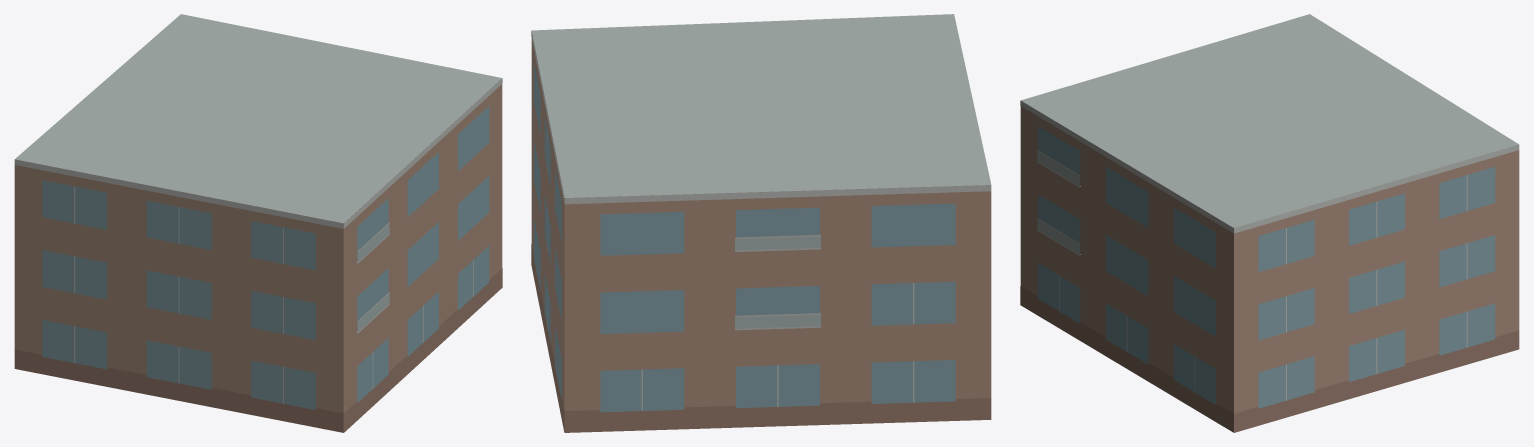
Rendered from survey-upis-32802758.glb.
3 views of the same model, side by side, from view 1: azimuth 30°, elevation 25°; view 2: azimuth 150°, elevation 25°; view 3: azimuth 270°, elevation 25° (orthographic). The views are drawn at different scales.
Parts seen in each view (by area): view 1: survey-upis-32802758.tmp; view 2: survey-upis-32802758.tmp; view 3: survey-upis-32802758.tmp.
Part boxes in pixels (box(x1,y1,x2,y2)): survey-upis-32802758.tmp: box(14, 14, 502, 432); survey-upis-32802758.tmp: box(531, 14, 991, 432); survey-upis-32802758.tmp: box(1020, 14, 1519, 432).
Bounding box in the file's own units: 20.65 × 9.2 × 20.32.
